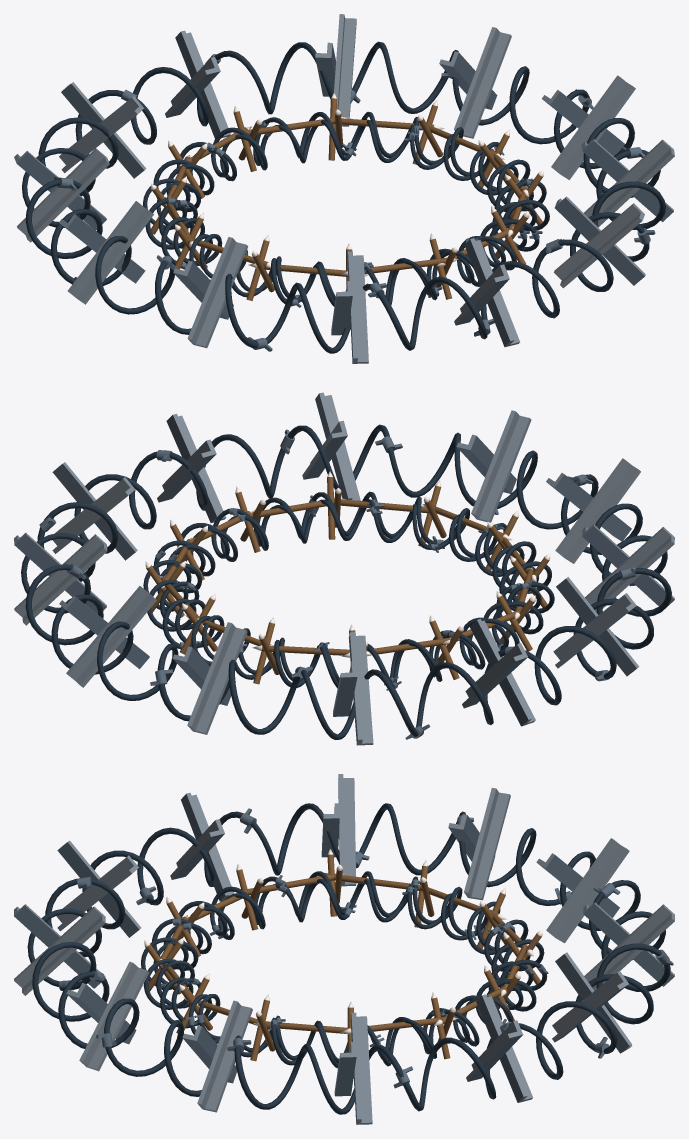
Rendered from Barbed.wire.fbx.
3 views of the same model, one above another, from view 1: azimuth 30°, elevation 25°; view 2: azimuth 150°, elevation 25°; view 3: azimuth 270°, elevation 25° (orthographic).
Parts seen in each view (by area): view 1: Barbed.wire.003, Barbed.wire.002, Barbed.wire.001; view 2: Barbed.wire.003, Barbed.wire.002, Barbed.wire.001; view 3: Barbed.wire.003, Barbed.wire.002, Barbed.wire.001.
Boxes of the visible parts, x1=… form: Barbed.wire.003: x1=14, y1=14, x2=674, y2=363; Barbed.wire.002: x1=143, y1=92, x2=549, y2=307; Barbed.wire.001: x1=156, y1=119, x2=536, y2=302; Barbed.wire.003: x1=14, y1=392, x2=674, y2=745; Barbed.wire.002: x1=143, y1=471, x2=554, y2=690; Barbed.wire.001: x1=157, y1=499, x2=541, y2=685; Barbed.wire.003: x1=14, y1=774, x2=674, y2=1124; Barbed.wire.002: x1=141, y1=849, x2=548, y2=1068; Barbed.wire.001: x1=153, y1=879, x2=534, y2=1063.
Bounding box in the file's own units: 16.25 × 2.34 × 16.33.
